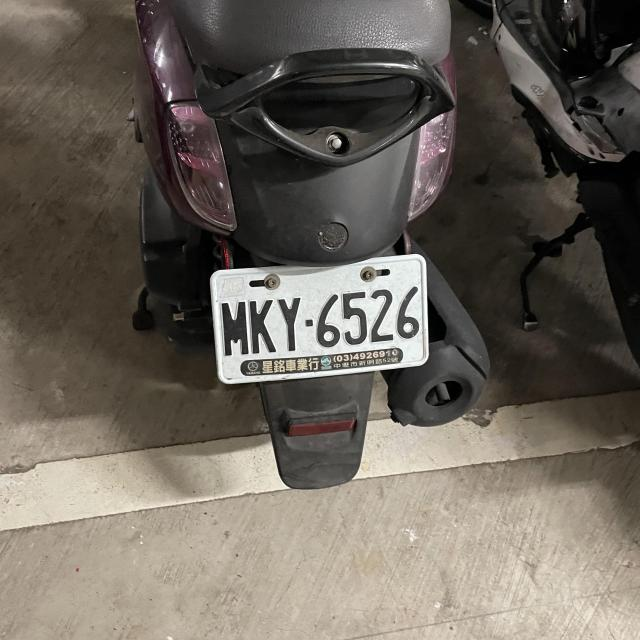W: (209, 254, 430, 384)
